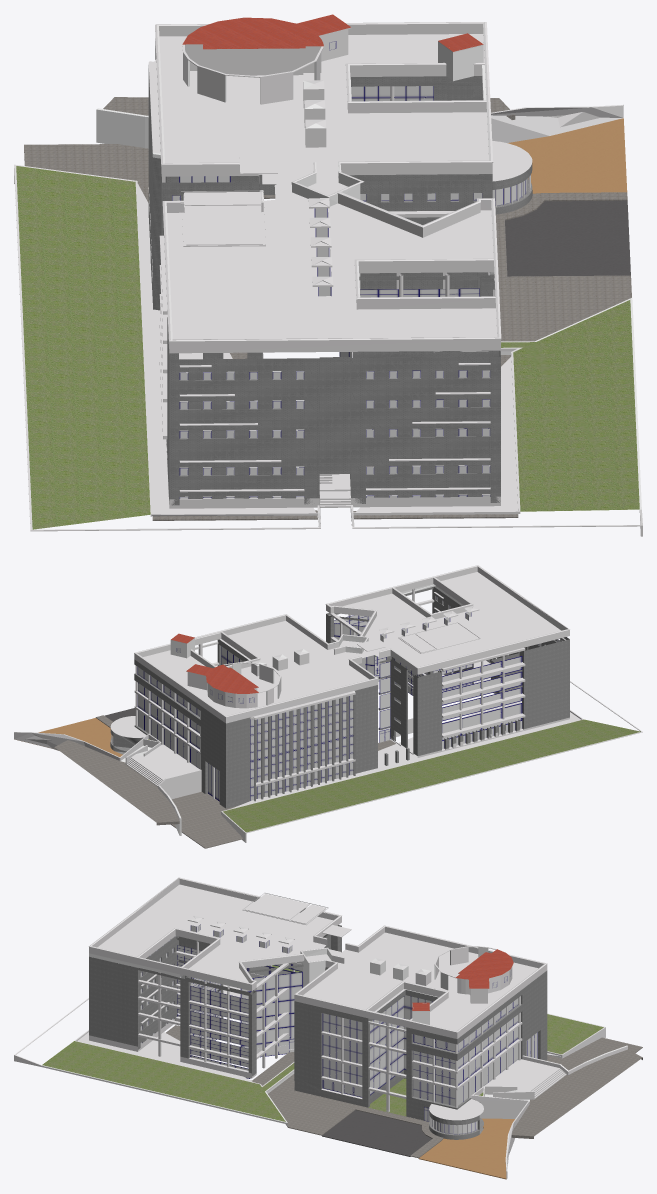
File: ViscaUJI1_0.fbx
The picture shows the model from 3 angles, top to bottom: view 1: azimuth 30°, elevation 25°; view 2: azimuth 150°, elevation 25°; view 3: azimuth 270°, elevation 25°; orthographic projection. The views are drawn at different scales.
Parts seen in each view (by area): view 1: CityEngineShapeMaterial_5_m, CityEngineShapeMaterial_6_m, CityEngineShapeMaterial_2_m, CityEngineShapeMaterial_11_m, CityEngineShapeMaterial_1_m, CityEngineShapeMaterial_m, CityEngineShapeMaterial_9_m, CityEngineShapeMaterial_7_m, CityEngineShapeMaterial_10_m, CityEngineShapeMaterial_3_m; view 2: CityEngineShapeMaterial_5_m, CityEngineShapeMaterial_2_m, CityEngineShapeMaterial_6_m, CityEngineShapeMaterial_3_m, CityEngineShapeMaterial_11_m, CityEngineShapeMaterial_9_m, CityEngineShapeMaterial_12_m, CityEngineShapeMaterial_7_m, CityEngineShapeMaterial_10_m, CityEngineShapeMaterial_m; view 3: CityEngineShapeMaterial_5_m, CityEngineShapeMaterial_2_m, CityEngineShapeMaterial_6_m, CityEngineShapeMaterial_11_m, CityEngineShapeMaterial_3_m, CityEngineShapeMaterial_9_m, CityEngineShapeMaterial_m, CityEngineShapeMaterial_1_m, CityEngineShapeMaterial_7_m, CityEngineShapeMaterial_12_m, CityEngineShapeMaterial_10_m.
Boxes of the visible parts, x1,y1,x2,y2 form: CityEngineShapeMaterial_5_m: (14, 22, 642, 536); CityEngineShapeMaterial_6_m: (16, 166, 639, 529); CityEngineShapeMaterial_2_m: (148, 41, 532, 505); CityEngineShapeMaterial_11_m: (24, 97, 631, 520); CityEngineShapeMaterial_1_m: (505, 200, 630, 276); CityEngineShapeMaterial_m: (507, 118, 627, 193); CityEngineShapeMaterial_9_m: (172, 41, 528, 498); CityEngineShapeMaterial_7_m: (96, 42, 641, 514); CityEngineShapeMaterial_10_m: (182, 14, 483, 51); CityEngineShapeMaterial_3_m: (351, 86, 490, 357); CityEngineShapeMaterial_5_m: (14, 565, 642, 842); CityEngineShapeMaterial_2_m: (110, 586, 569, 808); CityEngineShapeMaterial_6_m: (148, 655, 640, 832); CityEngineShapeMaterial_3_m: (221, 615, 472, 800); CityEngineShapeMaterial_11_m: (54, 715, 395, 848); CityEngineShapeMaterial_9_m: (113, 596, 559, 768); CityEngineShapeMaterial_12_m: (208, 656, 522, 801); CityEngineShapeMaterial_7_m: (120, 584, 435, 835); CityEngineShapeMaterial_10_m: (171, 633, 258, 693); CityEngineShapeMaterial_m: (14, 718, 122, 756); CityEngineShapeMaterial_5_m: (14, 877, 627, 1178); CityEngineShapeMaterial_2_m: (89, 925, 547, 1139); CityEngineShapeMaterial_6_m: (42, 965, 603, 1121); CityEngineShapeMaterial_11_m: (166, 1025, 642, 1158); CityEngineShapeMaterial_3_m: (177, 945, 432, 1095); CityEngineShapeMaterial_9_m: (118, 924, 518, 1134); CityEngineShapeMaterial_m: (418, 1118, 514, 1179); CityEngineShapeMaterial_1_m: (322, 1110, 431, 1156); CityEngineShapeMaterial_7_m: (41, 947, 627, 1126); CityEngineShapeMaterial_12_m: (177, 961, 537, 1097); CityEngineShapeMaterial_10_m: (412, 949, 513, 1010).
Bounding box in the file's own units: 146 × 31.72 × 160.
